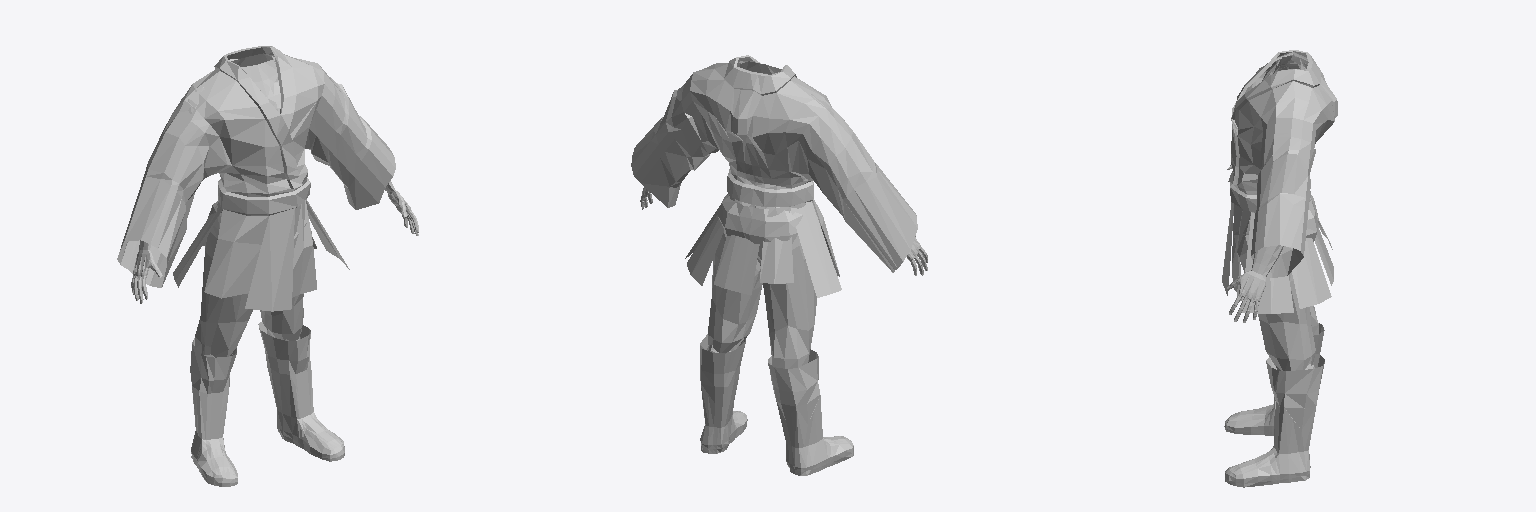
The model's file is BodyWithPantsAndSkirt.obj.
The picture shows the model from 3 angles: view 1: azimuth 30°, elevation 25°; view 2: azimuth 150°, elevation 25°; view 3: azimuth 270°, elevation 25°; orthographic projection.
Parts seen in each view (by area): view 1: VestOneSleeve:Mesh1 VestOneSleeve:polySurface5 VestOneSleeve:pol, pCube1, polySurface7 polySurface4 GengiJedi__3_:foot_ex:Mesh1, polySurface4 GengiJedi__3_:foot_ex:Mesh1 polySurface6; view 2: VestOneSleeve:Mesh1 VestOneSleeve:polySurface5 VestOneSleeve:pol, polySurface7 polySurface4 GengiJedi__3_:foot_ex:Mesh1, pCube1, polySurface4 GengiJedi__3_:foot_ex:Mesh1 polySurface6; view 3: VestOneSleeve:Mesh1 VestOneSleeve:polySurface5 VestOneSleeve:pol, pCube1, polySurface7 polySurface4 GengiJedi__3_:foot_ex:Mesh1, polySurface4 GengiJedi__3_:foot_ex:Mesh1 polySurface6.
Part boxes in pixels (bbox=[...]): VestOneSleeve:Mesh1 VestOneSleeve:polySurface5 VestOneSleeve:pol: bbox=[117, 46, 395, 311]; pCube1: bbox=[190, 322, 344, 486]; polySurface7 polySurface4 GengiJedi__3_:foot_ex:Mesh1: bbox=[195, 200, 311, 357]; polySurface4 GengiJedi__3_:foot_ex:Mesh1 polySurface6: bbox=[131, 53, 418, 357]; VestOneSleeve:Mesh1 VestOneSleeve:polySurface5 VestOneSleeve:pol: bbox=[631, 55, 917, 297]; polySurface7 polySurface4 GengiJedi__3_:foot_ex:Mesh1: bbox=[708, 194, 820, 368]; pCube1: bbox=[700, 334, 853, 475]; polySurface4 GengiJedi__3_:foot_ex:Mesh1 polySurface6: bbox=[640, 61, 927, 352]; VestOneSleeve:Mesh1 VestOneSleeve:polySurface5 VestOneSleeve:pol: bbox=[1222, 50, 1337, 313]; pCube1: bbox=[1224, 323, 1324, 487]; polySurface7 polySurface4 GengiJedi__3_:foot_ex:Mesh1: bbox=[1234, 195, 1318, 370]; polySurface4 GengiJedi__3_:foot_ex:Mesh1 polySurface6: bbox=[1227, 56, 1314, 370].
Size of the model in its own units: 62.12 by 83.51 by 22.21.